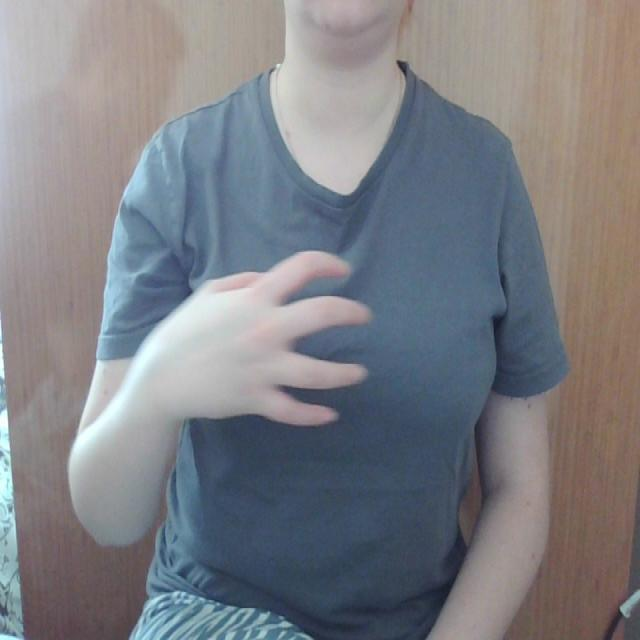Anne: (132, 234, 442, 436)
